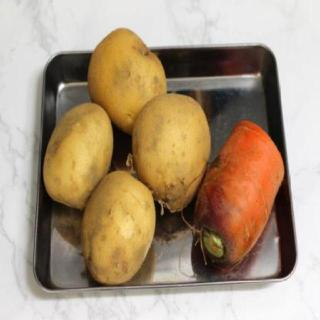carrot: (196, 118, 286, 272)
